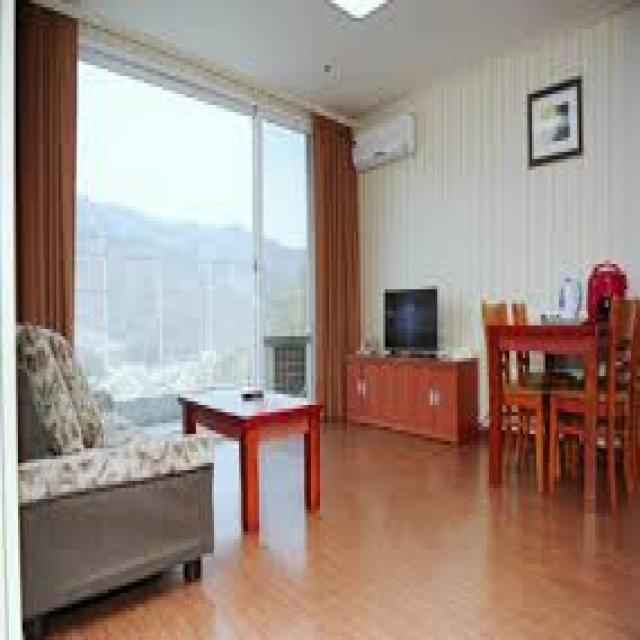Sofa: (19, 320, 215, 611)
Table: (488, 310, 632, 510), (179, 390, 324, 539)
tv: (384, 287, 441, 351)
window: (64, 52, 318, 386)
